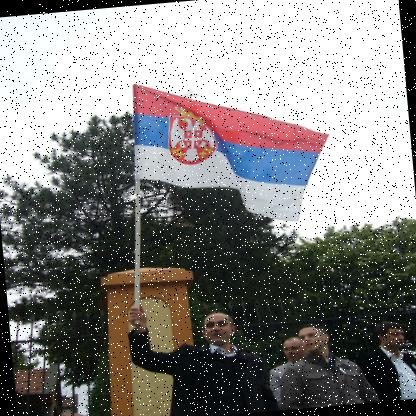rs: (127, 68, 338, 236)
